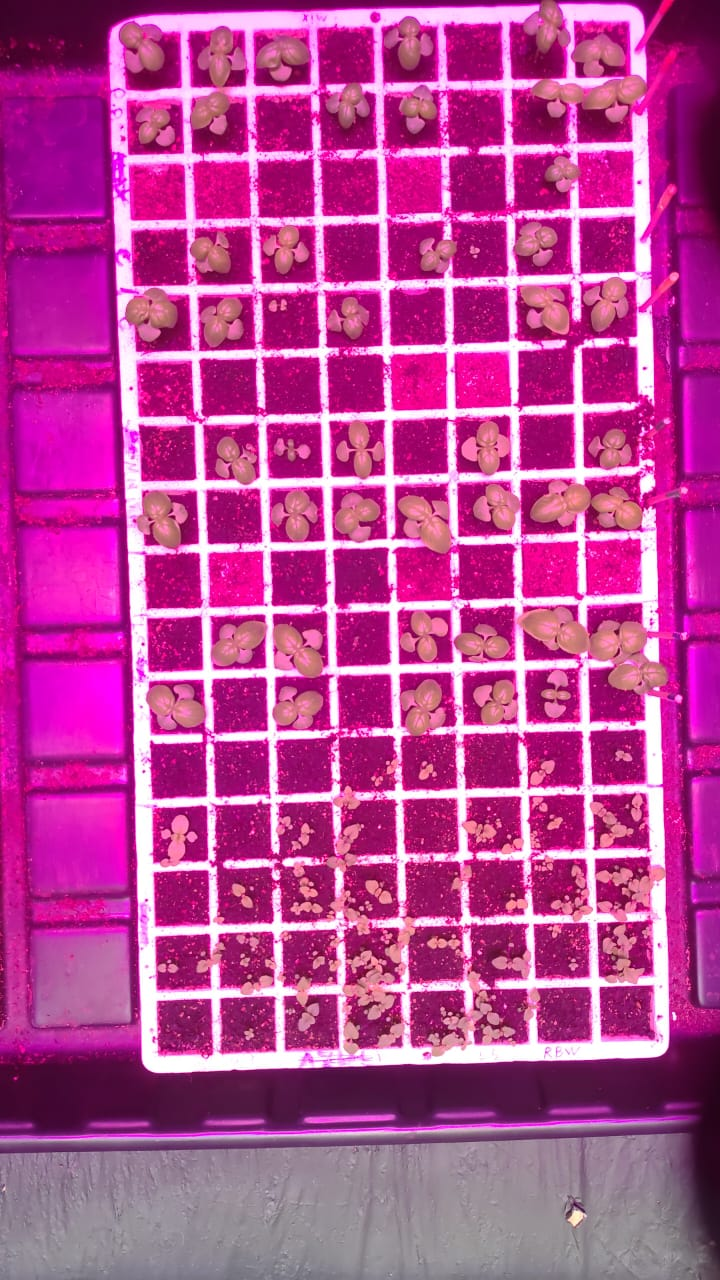Folha: (296, 443, 311, 459), (312, 903, 322, 913)
Germinacao: (202, 1061, 271, 1202), (139, 286, 200, 445), (519, 1057, 585, 1202), (393, 286, 453, 445), (139, 798, 200, 954), (117, 469, 207, 573), (567, 774, 671, 864), (331, 798, 391, 954), (100, 268, 198, 363), (455, 1057, 517, 1202), (393, 804, 453, 953), (139, 1057, 200, 1202), (273, 286, 329, 443), (331, 1057, 391, 1202), (393, 1057, 453, 1202), (202, 449, 271, 572), (202, 671, 271, 794), (273, 1057, 329, 1202), (331, 671, 391, 794), (358, 745, 431, 835), (273, 818, 329, 933), (587, 1102, 649, 1200), (455, 957, 517, 1054), (202, 968, 271, 1053), (331, 957, 391, 1054), (393, 957, 453, 1054), (139, 575, 200, 668), (592, 852, 649, 951), (396, 675, 453, 773), (310, 282, 384, 356), (393, 473, 453, 564), (273, 957, 329, 1054), (202, 1205, 271, 1279), (524, 813, 584, 898), (519, 1205, 585, 1279), (455, 1205, 517, 1279), (587, 1205, 649, 1279), (139, 1205, 200, 1279), (331, 1205, 391, 1279), (393, 1205, 453, 1279), (524, 877, 584, 950), (519, 981, 585, 1047), (587, 600, 649, 667), (273, 1205, 329, 1279), (652, 1205, 707, 1279), (653, 1099, 693, 1200), (594, 729, 672, 780), (455, 604, 517, 666), (273, 599, 329, 667), (461, 675, 517, 741), (587, 485, 649, 543), (455, 477, 517, 533), (510, 747, 566, 808), (207, 612, 270, 666), (396, 607, 453, 666), (331, 489, 389, 545), (407, 745, 471, 794), (273, 674, 325, 734), (528, 475, 584, 529), (143, 679, 200, 732), (273, 485, 322, 545), (519, 599, 585, 640), (260, 430, 324, 470), (597, 959, 649, 1007), (597, 996, 649, 1044), (155, 997, 200, 1052), (520, 291, 573, 337), (204, 293, 245, 350), (455, 911, 517, 948), (519, 625, 585, 657), (607, 674, 648, 723), (587, 291, 631, 336), (456, 862, 487, 924), (664, 877, 689, 950), (147, 960, 200, 994), (459, 812, 504, 849), (461, 838, 517, 867), (540, 674, 573, 722), (331, 453, 387, 481), (455, 453, 517, 478), (226, 880, 260, 920), (466, 413, 516, 439), (204, 792, 234, 833), (653, 675, 684, 713), (533, 960, 584, 982), (273, 929, 329, 947), (136, 742, 161, 782), (205, 856, 220, 919), (218, 857, 270, 874), (486, 891, 516, 919), (466, 275, 507, 295), (220, 931, 270, 947), (338, 419, 374, 438), (593, 454, 633, 470), (658, 485, 688, 502), (652, 415, 669, 437), (349, 633, 371, 650), (602, 428, 627, 438)
